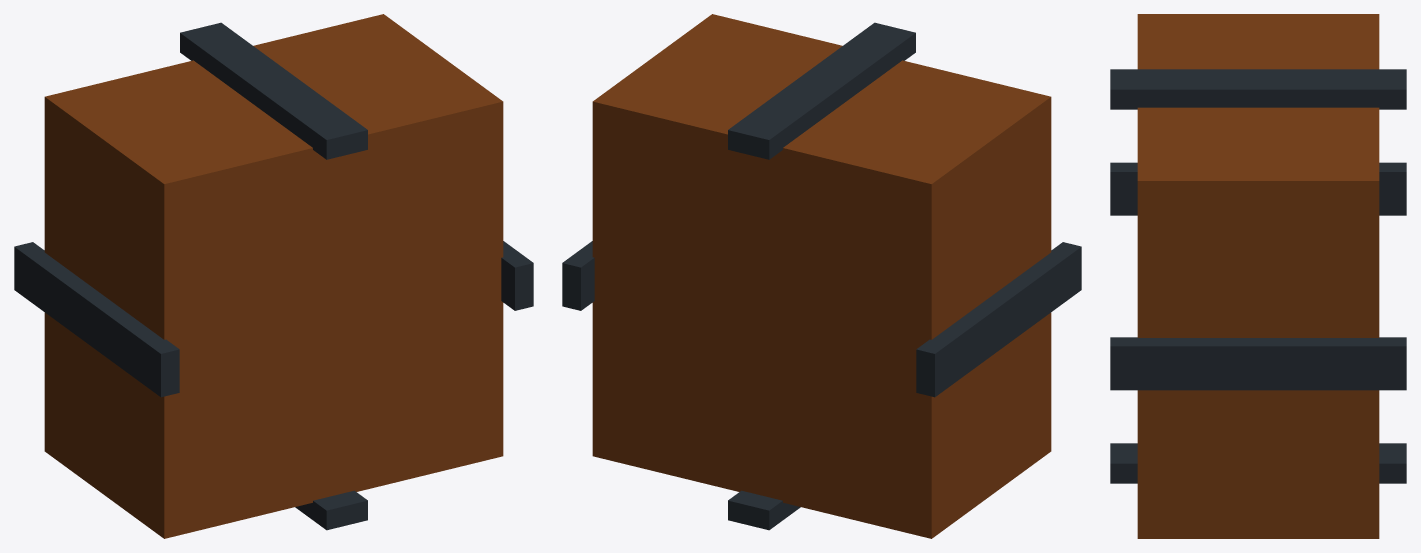
The model's file is SM_CHK_Crate.obj.
The picture shows the model from 3 angles, left to right: view 1: azimuth 30°, elevation 25°; view 2: azimuth 150°, elevation 25°; view 3: azimuth 270°, elevation 25°; orthographic projection.
Parts seen in each view (by area): view 1: CrateBody, BandLeft, BandBack, BandRight, BandFront; view 2: CrateBody, BandLeft, BandBack, BandRight, BandFront; view 3: CrateBody, BandRight, BandBack, BandLeft, BandFront.
Boxes of the visible parts, bbox=[...] form: CrateBody: bbox=[44, 14, 503, 538]; BandLeft: bbox=[14, 242, 179, 397]; BandBack: bbox=[180, 22, 367, 159]; BandRight: bbox=[501, 241, 533, 310]; BandFront: bbox=[295, 490, 367, 530]; CrateBody: bbox=[592, 14, 1051, 538]; BandLeft: bbox=[916, 242, 1081, 397]; BandBack: bbox=[728, 22, 915, 159]; BandRight: bbox=[562, 241, 594, 310]; BandFront: bbox=[728, 490, 800, 530]; CrateBody: bbox=[1137, 14, 1379, 538]; BandRight: bbox=[1110, 337, 1406, 390]; BandBack: bbox=[1110, 69, 1406, 109]; BandLeft: bbox=[1110, 162, 1406, 215]; BandFront: bbox=[1110, 443, 1406, 483].
Size of the model in its own units: 1.98 by 1.98 by 1.35.
